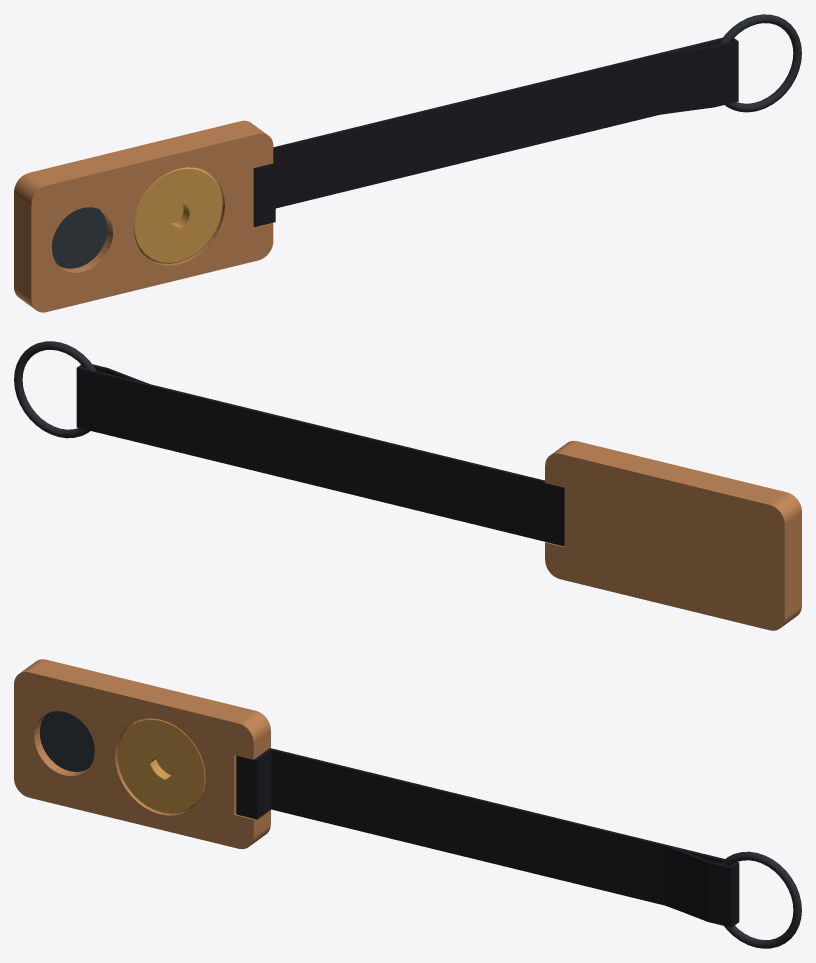
The model's file is slava-cello-board.glb.
3 renders of one model, top to bottom at view 1: azimuth 30°, elevation 25°; view 2: azimuth 150°, elevation 25°; view 3: azimuth 330°, elevation 25°, orthographic.
Visible parts, largest first — view 1: webbing_38mm_black, maple_board, brass_D60x15_shield, carbon_fiber_D40x10, ring_50mm_black; view 2: maple_board, webbing_38mm_black, ring_50mm_black; view 3: webbing_38mm_black, maple_board, brass_D60x15_shield, carbon_fiber_D40x10, ring_50mm_black.
Part boxes in pixels (left/top/right/bottom): webbing_38mm_black: left=253, top=37, right=738, bottom=227; maple_board: left=14, top=120, right=273, bottom=312; brass_D60x15_shield: left=133, top=167, right=222, bottom=263; carbon_fiber_D40x10: left=52, top=207, right=107, bottom=268; ring_50mm_black: left=718, top=14, right=801, bottom=112; maple_board: left=545, top=440, right=801, bottom=630; webbing_38mm_black: left=76, top=364, right=564, bottom=546; ring_50mm_black: left=14, top=341, right=96, bottom=438; webbing_38mm_black: left=236, top=748, right=739, bottom=927; maple_board: left=14, top=659, right=270, bottom=849; brass_D60x15_shield: left=117, top=718, right=205, bottom=813; carbon_fiber_D40x10: left=39, top=711, right=94, bottom=771; ring_50mm_black: left=720, top=851, right=801, bottom=948.
Size of the model in its own units: 518 by 80 by 20.
